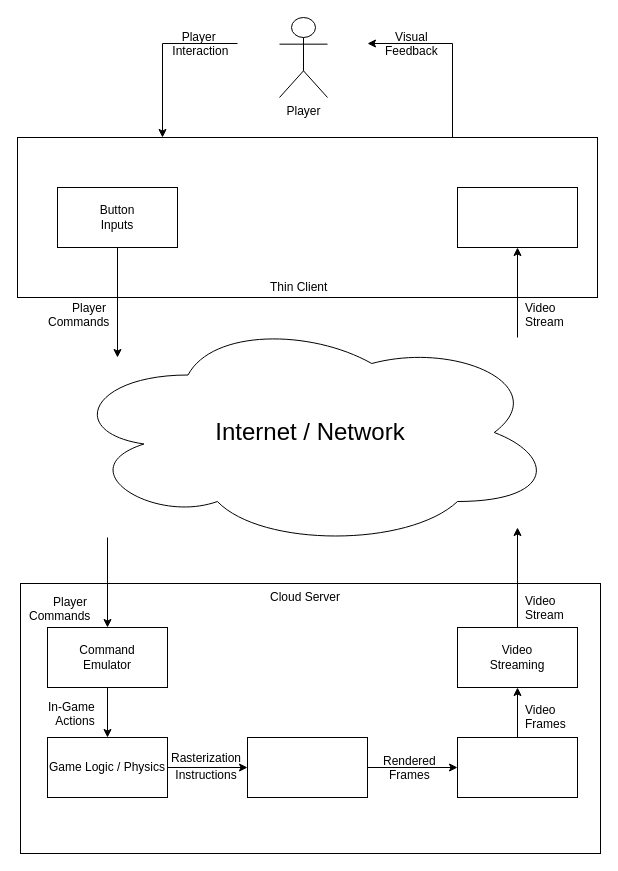
Image size: 618x871. Some labels were removed from this diagram. Each missing label, with the centre of its shape:
"Game Capture / Video Encoding" goes at [517,767].
"Graphics Rendering" goes at [307,767].
"Video Player" goes at [517,217].
